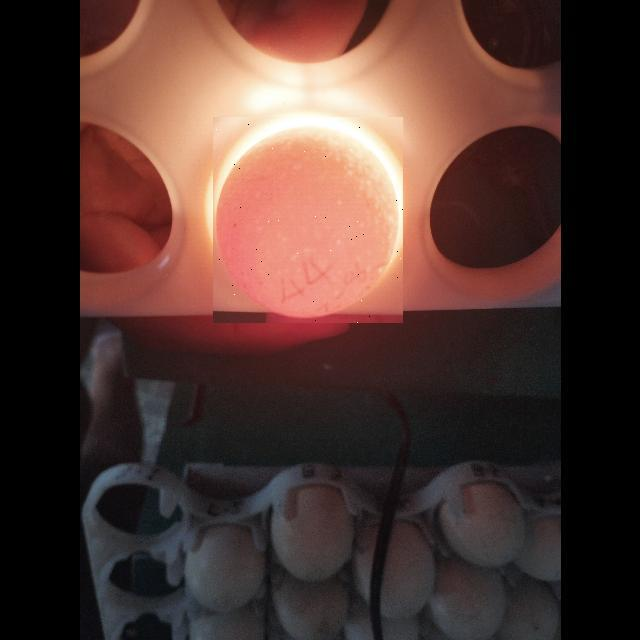A - Good: (213, 117, 403, 323)
